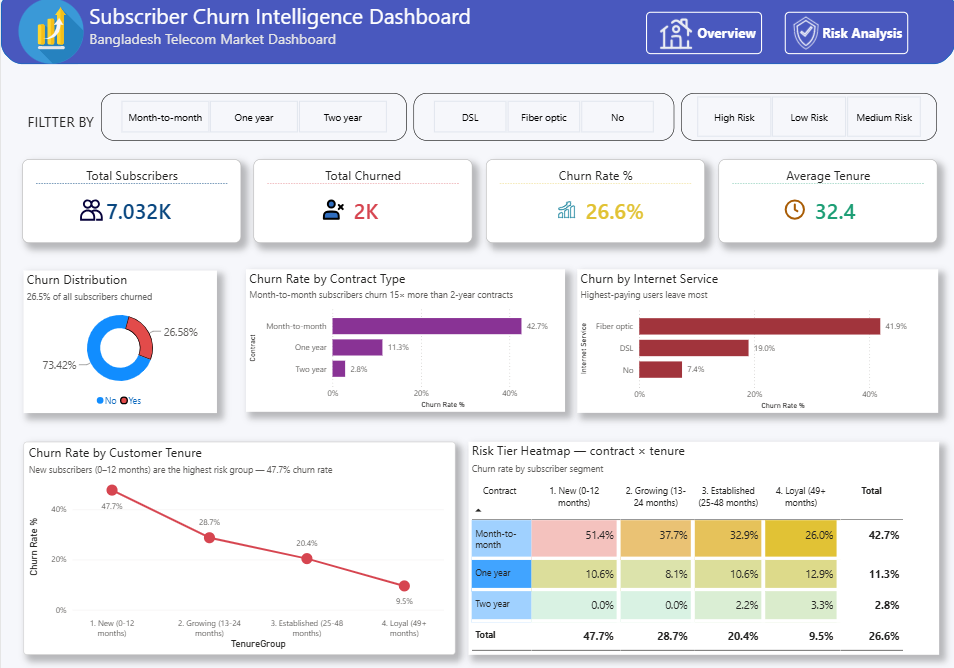

Layout of this report page (visuals, bound fields, positions):
{"tool":"powerbi","page":{"name":"Overview","canvas":[1440,1050],"ordinal":0},"visuals":[{"type":"cardVisual","title":"Total Subscribers","fields":{"Data":["telecom_churn vw_subscriber_risk.Total Subscribers"]},"box":[31.7,243.3,330,126.7],"z":0},{"type":"cardVisual","title":"Total Churned","fields":{"Data":["telecom_churn vw_subscriber_risk.Total Churned"]},"box":[381.7,243.3,330,126.7],"z":1000},{"type":"cardVisual","title":"Churn Rate %","fields":{"Data":["telecom_churn vw_subscriber_risk.Churn Rate %"]},"box":[731.7,243.3,330,126.7],"z":2000},{"type":"cardVisual","title":"Average Tenure","fields":{"Data":["telecom_churn vw_subscriber_risk.Avg Tenure"]},"box":[1083.3,243.3,330,126.7],"z":3000},{"type":"donutChart","title":"Churn Distribution","fields":{"Category":["telecom_churn vw_subscriber_risk.Churn Label"],"Y":["telecom_churn vw_subscriber_risk.Total Subscribers"]},"box":[33.3,411.7,291.7,215],"z":4000},{"type":"clusteredBarChart","title":"Churn Rate by Contract Type","fields":{"Category":["telecom_churn vw_subscriber_risk.Contract"],"Y":["telecom_churn vw_subscriber_risk.Churn Rate %"]},"box":[370,410,481.7,215],"z":5000},{"type":"lineChart","title":"Churn Rate by Customer Tenure","fields":{"Category":["telecom_churn vw_subscriber_risk.TenureGroup"],"Y":["telecom_churn vw_subscriber_risk.Churn Rate %"]},"box":[33.3,670,651.7,321.7],"z":6000},{"type":"clusteredBarChart","title":"Churn by Internet Service","fields":{"Category":["telecom_churn vw_subscriber_risk.Internet Service"],"Y":["telecom_churn vw_subscriber_risk.Churn Rate %"]},"box":[870,410,545,216.7],"z":7000},{"type":"slicer","title":"CONTACT TYPE","fields":{"Values":["telecom_churn vw_subscriber_risk.Contract"]},"box":[151.7,143.3,461.7,71.7],"z":8000},{"type":"slicer","title":"INTERNET SEVICE","fields":{"Values":["telecom_churn vw_subscriber_risk.Internet Service"]},"box":[623.3,143.3,393.3,71.7],"z":9000},{"type":"slicer","title":"RISK TIRE","fields":{"Values":["telecom_churn vw_subscriber_risk.risk_tier"]},"box":[1026.7,143.3,386.7,71.7],"z":10000},{"type":"textbox","box":[30,150,120,60],"z":11000},{"type":"pivotTable","title":"Risk Tier Heatmap — contract × tenure","fields":{"Rows":["telecom_churn vw_subscriber_risk.Contract"],"Columns":["telecom_churn vw_subscriber_risk.TenureGroup"],"Values":["telecom_churn vw_subscriber_risk.Churn Rate %"]},"box":[705,670,710,321.7],"z":12000},{"type":"shape","box":[0,0,1440,100],"z":14000},{"type":"textbox","box":[128.3,0,603.8,64.2],"z":14500},{"type":"image","box":[26.4,0,98.1,100],"z":14501},{"type":"textbox","box":[128.3,41.5,388.7,43.4],"z":14502},{"type":"actionButton","title":"Risk Analysis","box":[973.6,20.8,175.5,64.2],"z":14503},{"type":"actionButton","title":"Risk Analysis","box":[1183,20.8,186.8,64.2],"z":14504}]}

Visuals, with their boxes on the page's 1440x1050 design canvas (x1, y1, x2, y2). These are canvas units, not pixel positions in the 954x668 screenshot, which may show the page scaled, cropped or inside an application window:
"Total Subscribers" cardVisual: select_region(32, 243, 362, 370)
"Total Churned" cardVisual: select_region(382, 243, 712, 370)
"Churn Rate %" cardVisual: select_region(732, 243, 1062, 370)
"Average Tenure" cardVisual: select_region(1083, 243, 1413, 370)
"Churn Distribution" donutChart: select_region(33, 412, 325, 627)
"Churn Rate by Contract Type" clusteredBarChart: select_region(370, 410, 852, 625)
"Churn Rate by Customer Tenure" lineChart: select_region(33, 670, 685, 992)
"Churn by Internet Service" clusteredBarChart: select_region(870, 410, 1415, 627)
"CONTACT TYPE" slicer: select_region(152, 143, 613, 215)
"INTERNET SEVICE" slicer: select_region(623, 143, 1017, 215)
"RISK TIRE" slicer: select_region(1027, 143, 1413, 215)
textbox: select_region(30, 150, 150, 210)
"Risk Tier Heatmap — contract × tenure" pivotTable: select_region(705, 670, 1415, 992)
shape: select_region(0, 0, 1440, 100)
textbox: select_region(128, 0, 732, 64)
image: select_region(26, 0, 124, 100)
textbox: select_region(128, 42, 517, 85)
"Risk Analysis" actionButton: select_region(974, 21, 1149, 85)
"Risk Analysis" actionButton: select_region(1183, 21, 1370, 85)
